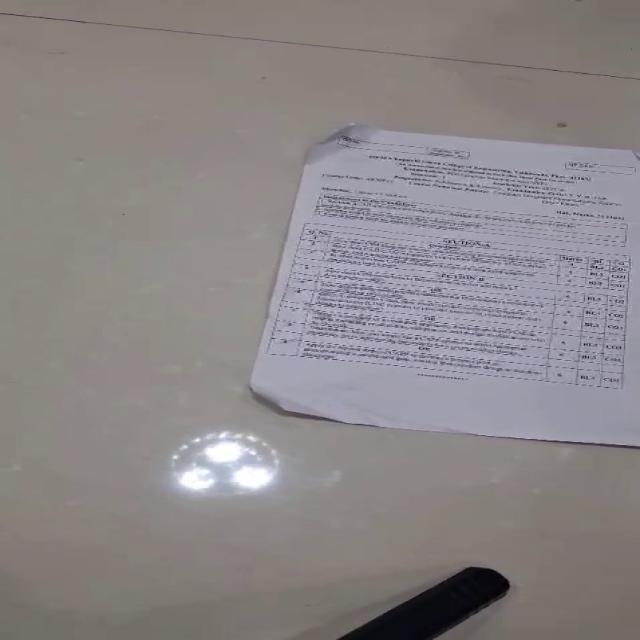paper: (247, 121, 638, 447)
